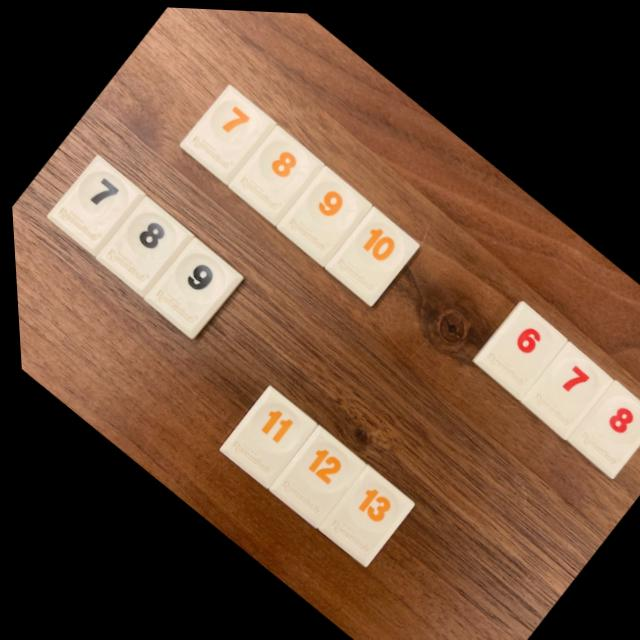black_7: (44, 155, 142, 256)
black_8: (92, 196, 190, 296)
black_9: (140, 236, 239, 337)
orange_10: (322, 204, 416, 303)
orange_11: (213, 384, 311, 487)
orange_12: (262, 423, 360, 526)
orange_13: (312, 462, 408, 563)
orange_7: (179, 83, 275, 182)
orange_8: (226, 123, 322, 224)
orange_9: (273, 164, 369, 263)
red_6: (468, 296, 563, 396)
red_7: (516, 337, 608, 435)
red_8: (562, 375, 640, 473)
